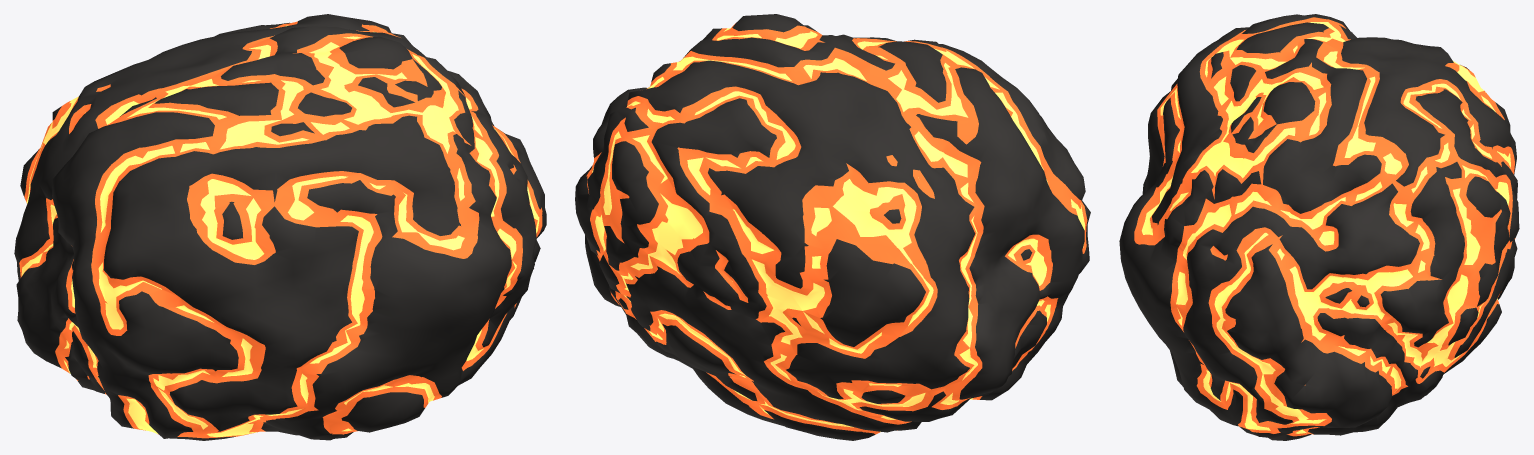
The model's file is bomb_4.glb.
3 views of the same model, side by side, from view 1: azimuth 30°, elevation 25°; view 2: azimuth 150°, elevation 25°; view 3: azimuth 270°, elevation 25° (orthographic). The views are drawn at different scales.
Parts seen in each view (by area): view 1: bomb_4; view 2: bomb_4; view 3: bomb_4.
Boxes of the visible parts, x1,y1,x2,y2 form: bomb_4: (14,14,546,440); bomb_4: (575,14,1090,440); bomb_4: (1119,14,1519,440).
Size of the model in its own units: 4.24 by 3.12 by 3.31.
